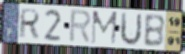2: (43, 8, 62, 42)
B: (143, 13, 166, 49)
M: (90, 10, 119, 46)
R: (68, 8, 94, 45), (17, 8, 42, 40)
U: (118, 11, 143, 47)
